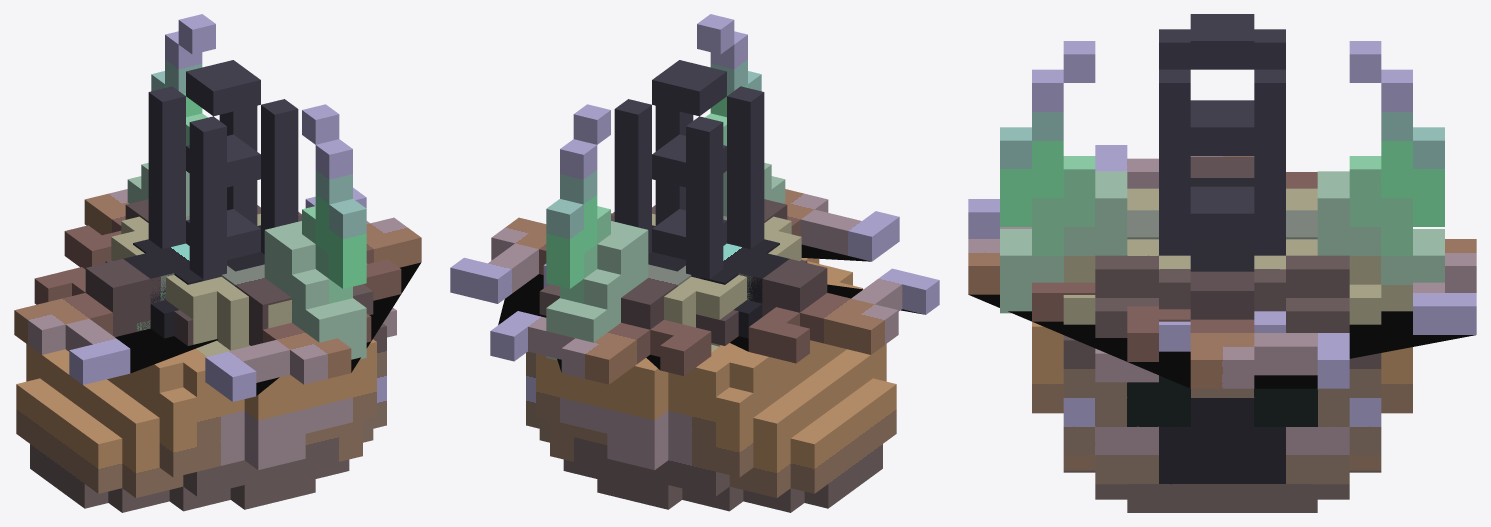
File: can_rainbow.fbx
3 renders of one model, left to right at view 1: azimuth 30°, elevation 25°; view 2: azimuth 150°, elevation 25°; view 3: azimuth 270°, elevation 25°, orthographic. The views are drawn at different scales.
Visible parts, largest first — view 1: cannon_rainbow-2, cannon_rainbow-4, cannon_rainbow-3; view 2: cannon_rainbow-2, cannon_rainbow-4, cannon_rainbow-3; view 3: cannon_rainbow-2, cannon_rainbow-4, cannon_rainbow-3.
Boxes of the visible parts, x1,y1,x2,y2 form: cannon_rainbow-2: (16,14,396,512); cannon_rainbow-4: (14,187,421,401); cannon_rainbow-3: (123,225,264,338); cannon_rainbow-2: (526,14,896,512); cannon_rainbow-4: (450,189,939,384); cannon_rainbow-3: (648,225,789,338); cannon_rainbow-2: (1000,14,1444,512); cannon_rainbow-4: (968,145,1476,388); cannon_rainbow-3: (1190,178,1254,271).
Bounding box in the file's own units: 160 × 150 × 160.
Materials: 1 (1 with a texture image).
